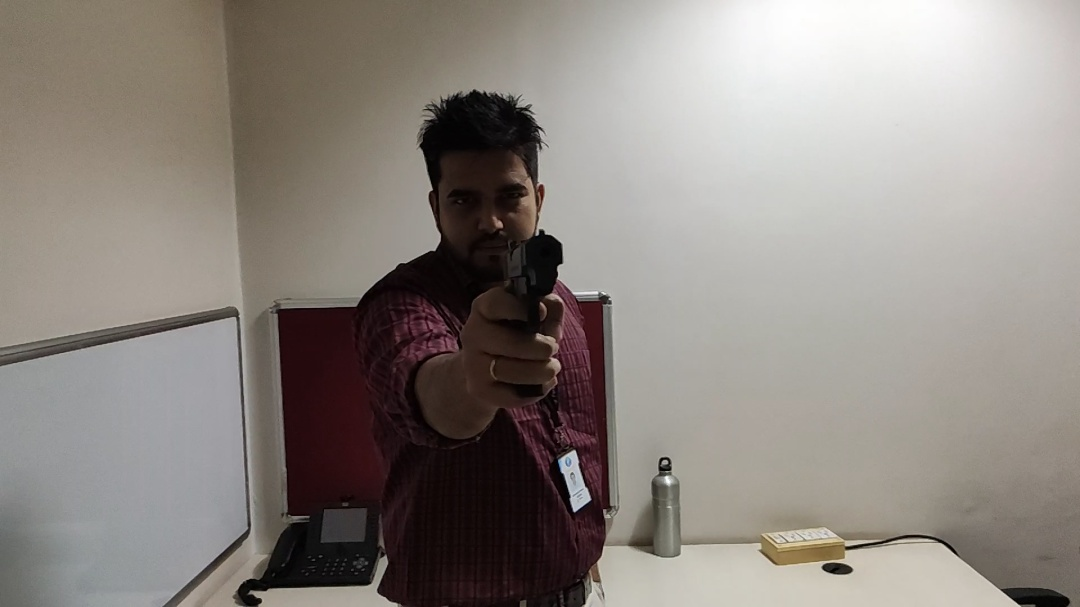gun: (494, 225, 566, 408)
